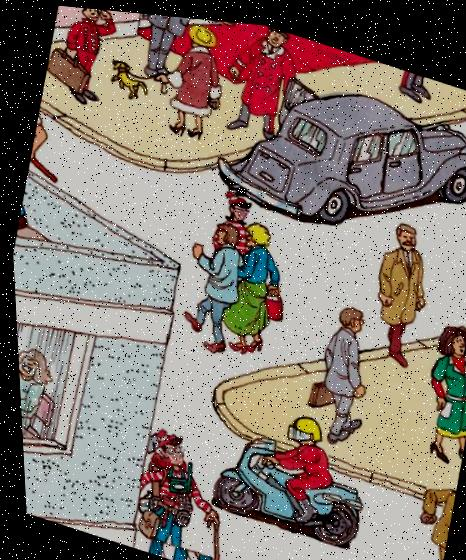waldo: (147, 424, 184, 465)
